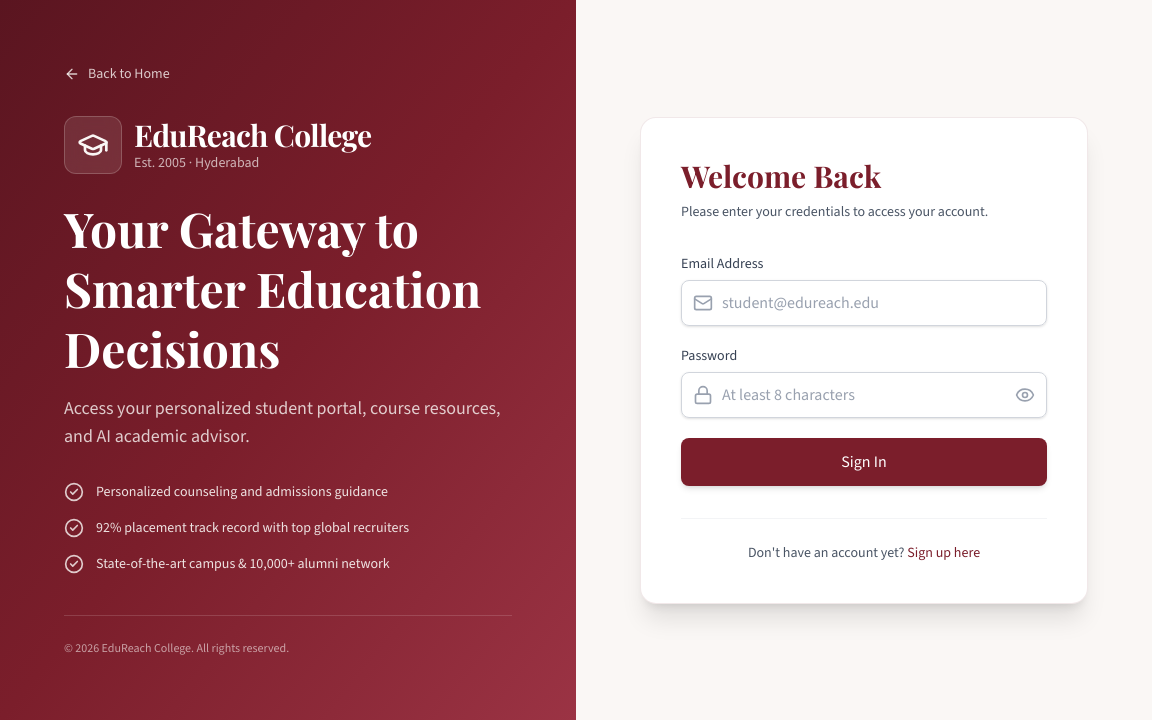
LoginPage › shows validation errors when submitting an empty form
Step 1. Click the button "Sign In" → (864, 462), box [681,438,1047,486]
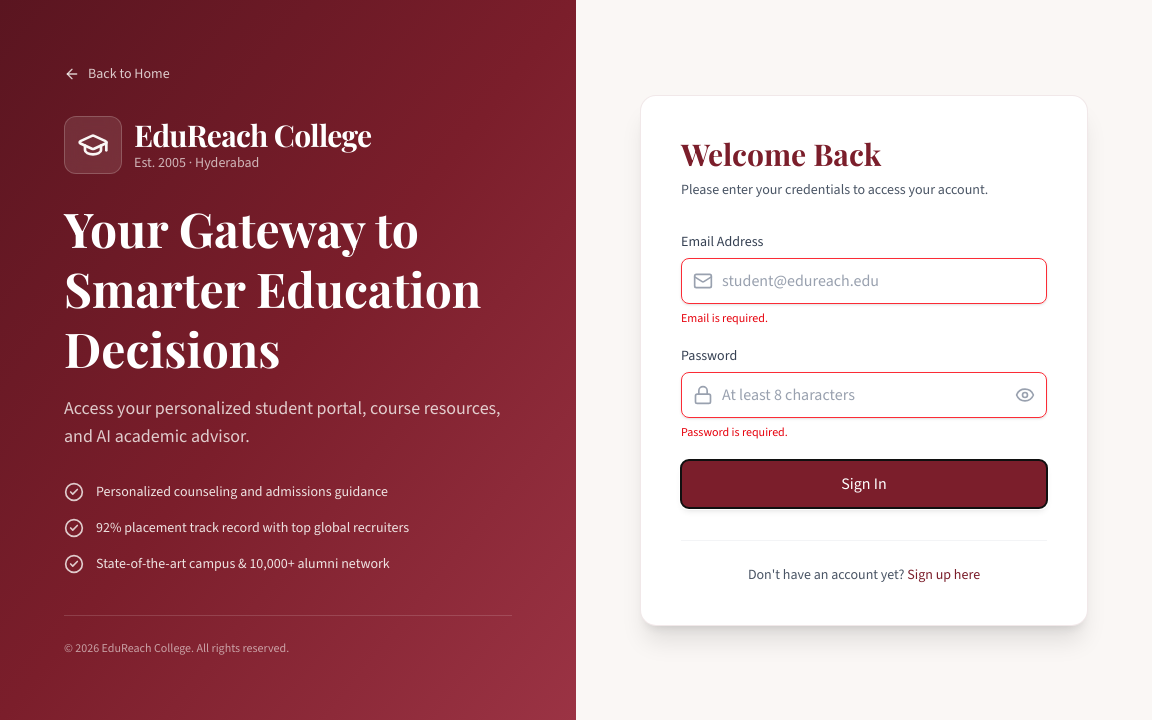
Now the text "Email is required." is shown, box [681,310,768,326]
Now the text "Password is required." is shown, box [681,424,788,440]
